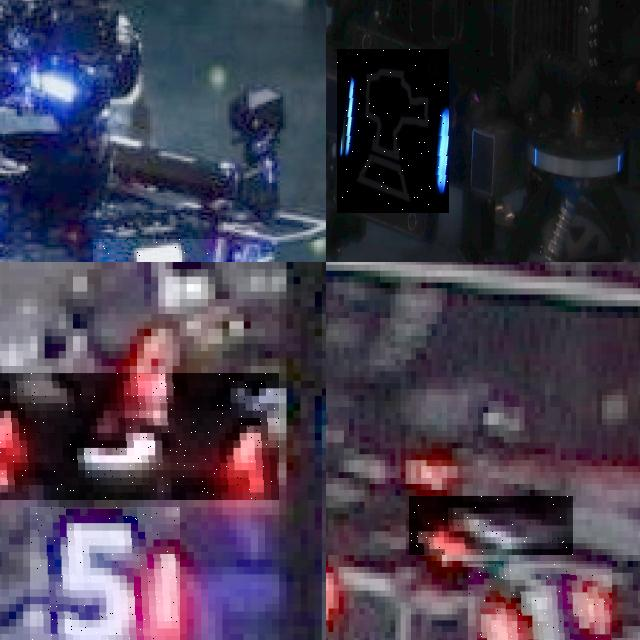Bs: (338, 49, 450, 213)
R1: (467, 564, 612, 640), (409, 496, 573, 555)
R5: (0, 373, 279, 499), (30, 507, 179, 640)
